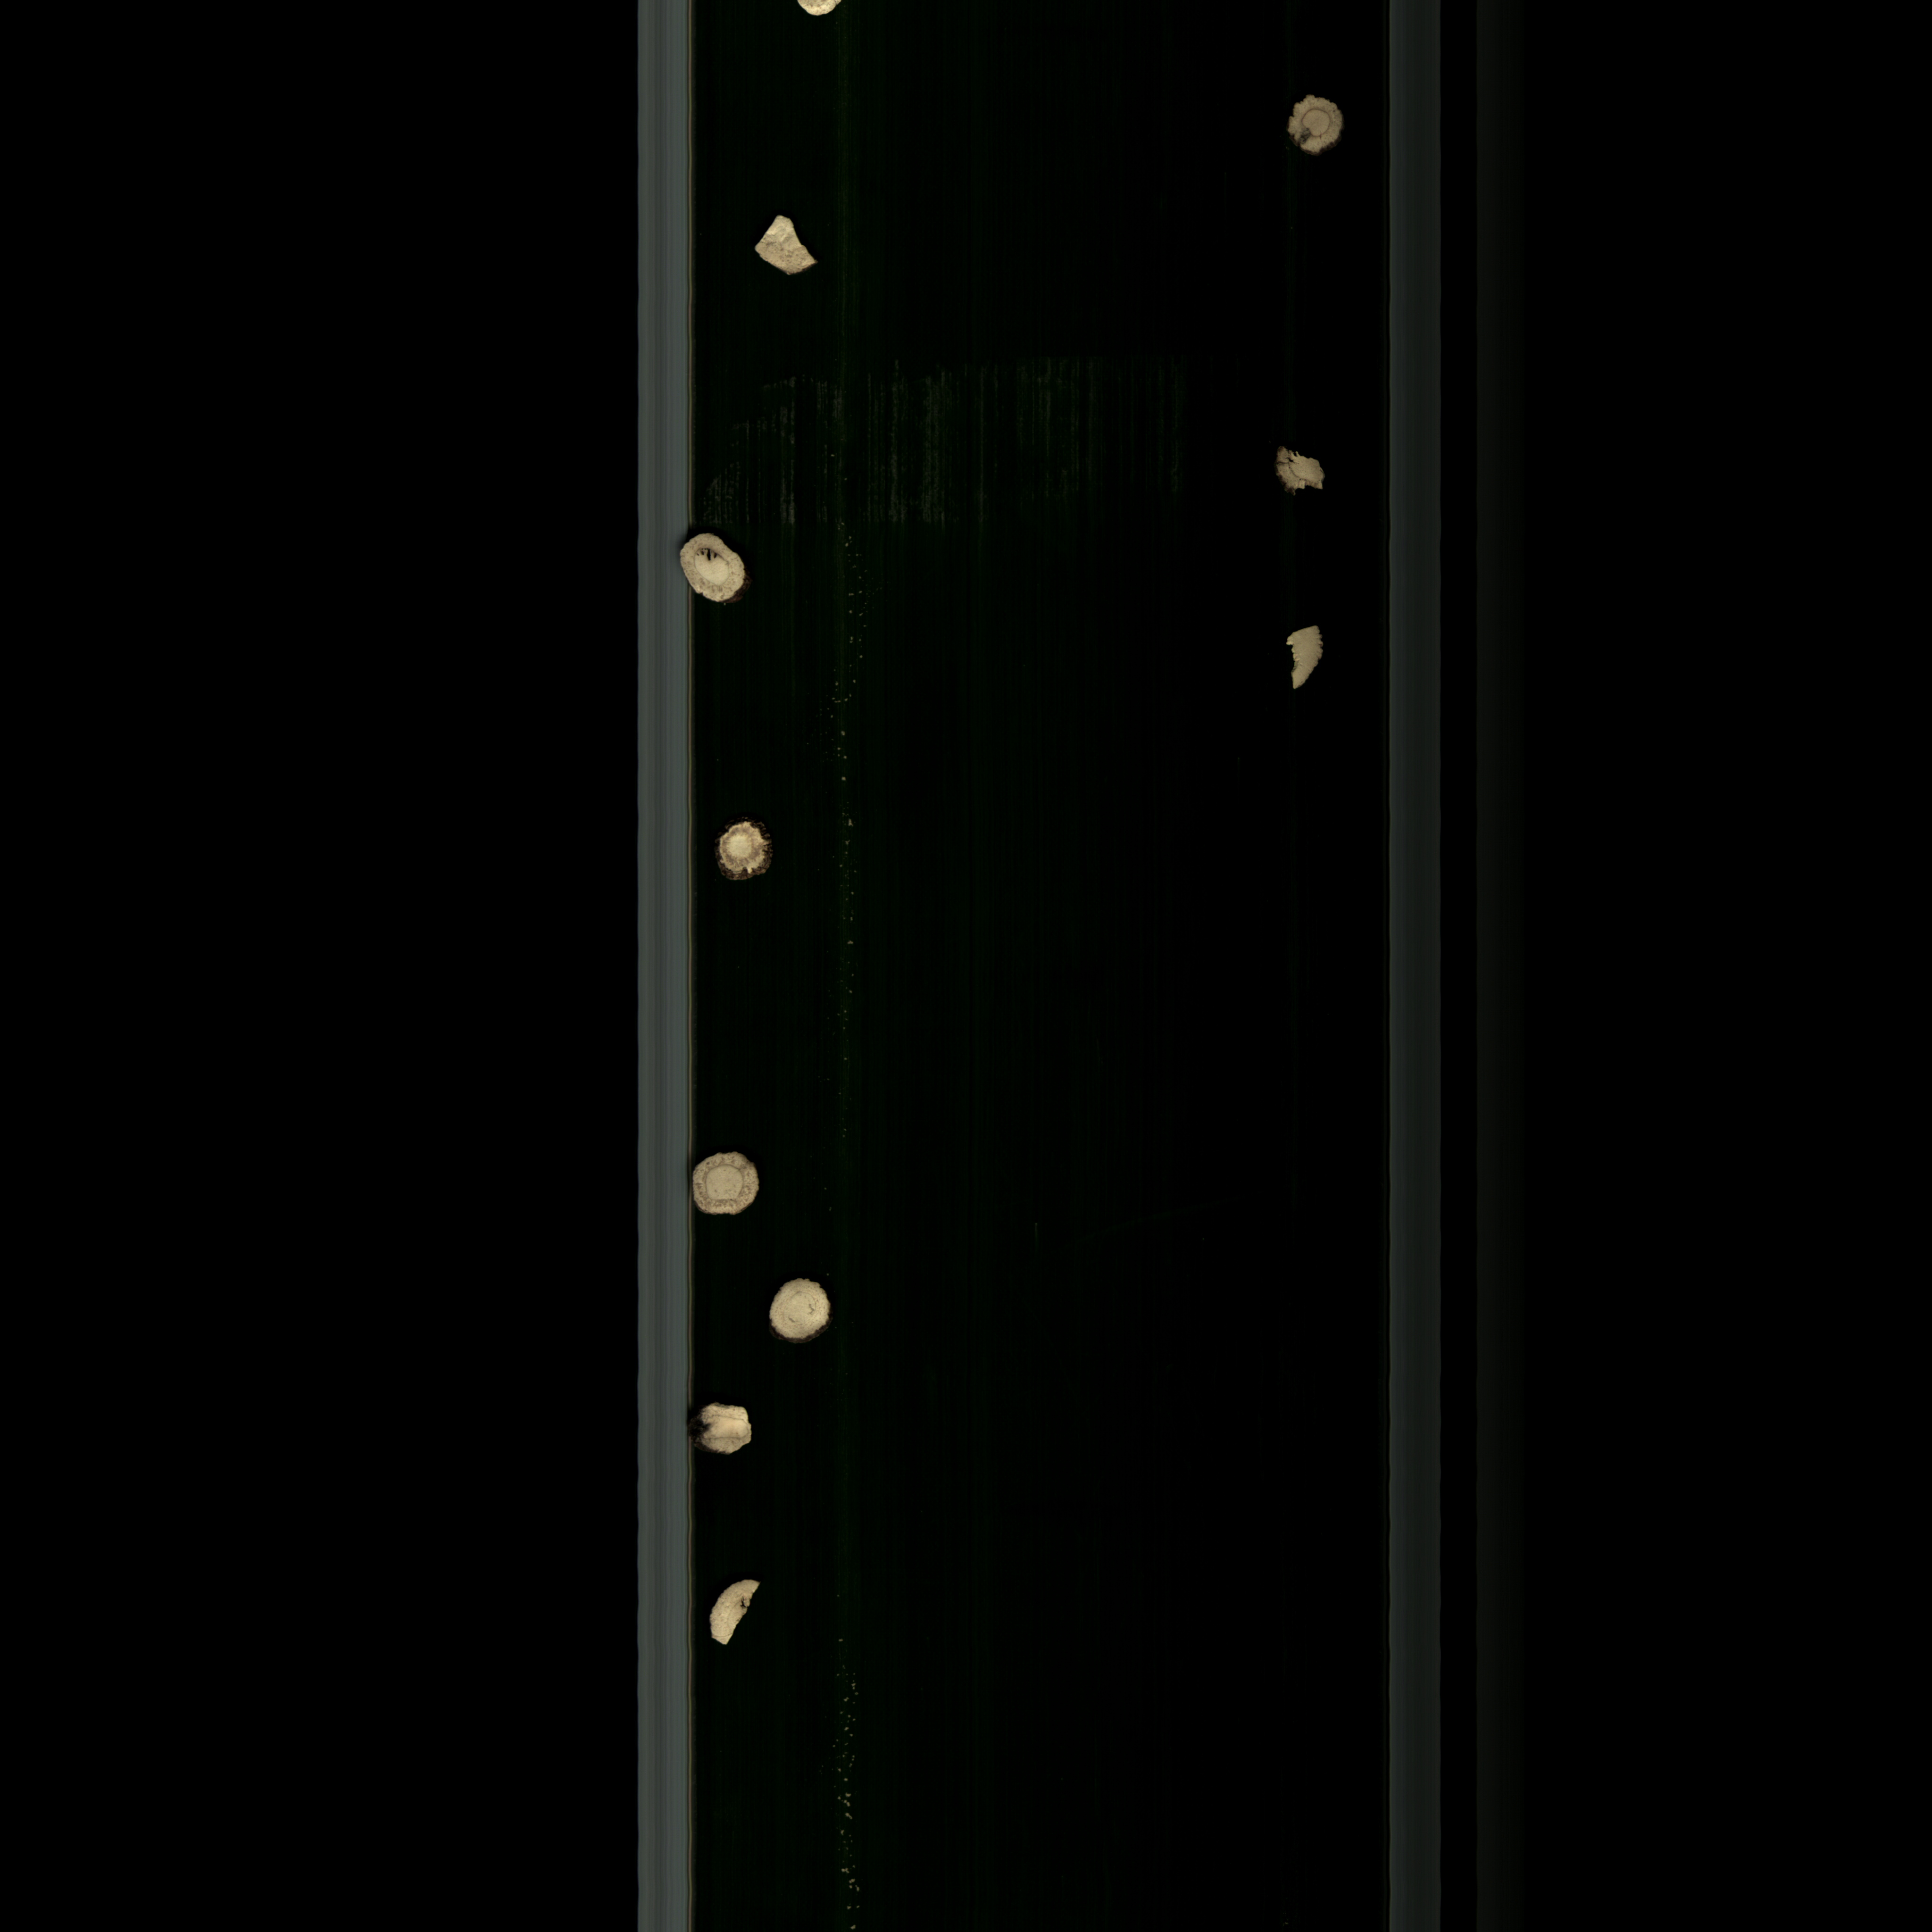debris: (745, 207, 821, 283), (704, 1575, 771, 1656)
distortion: (686, 1392, 784, 1468)
dreg: (1274, 621, 1330, 695)
hole: (671, 524, 755, 612)
moldy: (708, 814, 777, 886), (1283, 88, 1345, 159), (1270, 439, 1332, 501)
